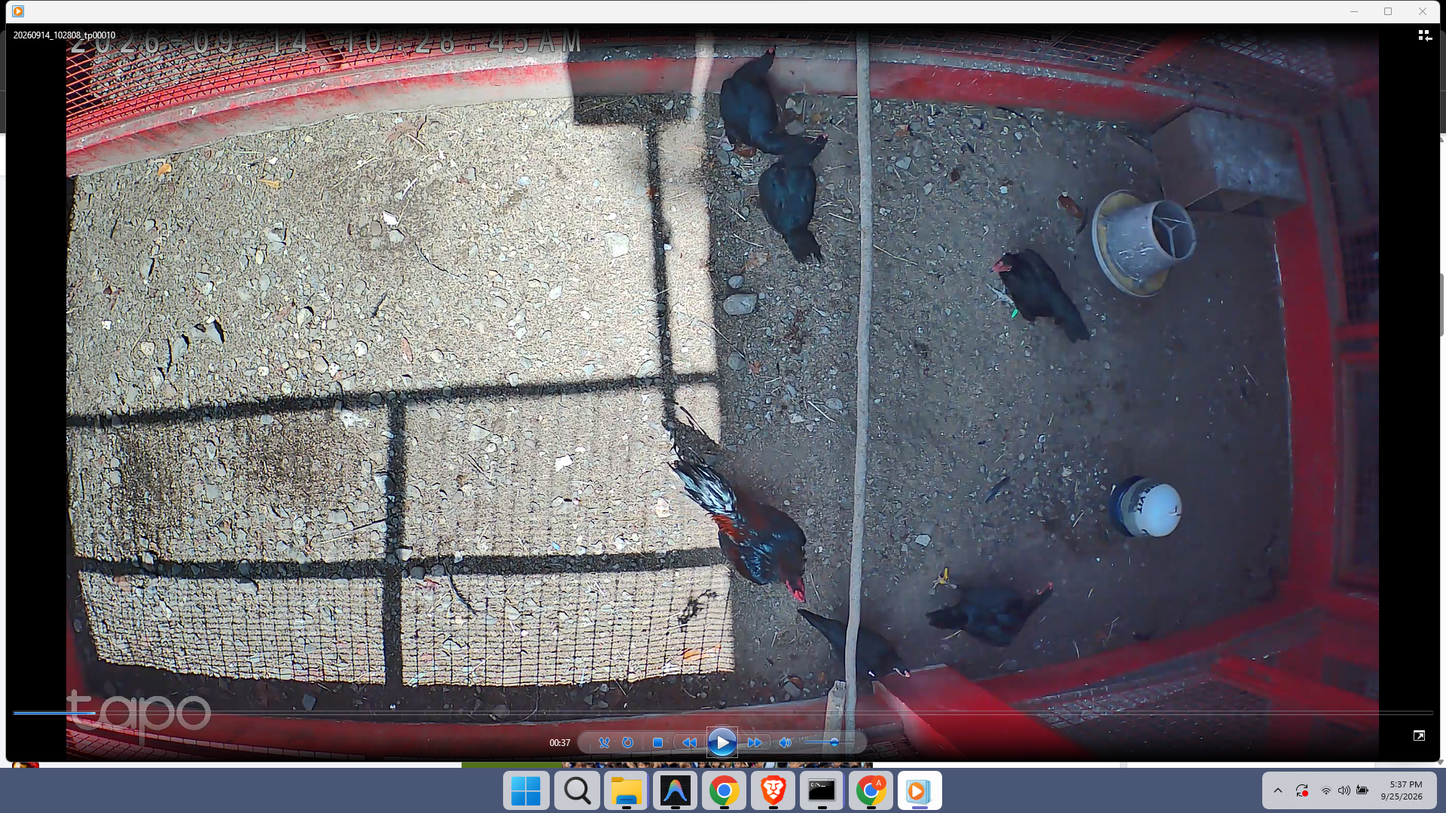Chicken: (986, 247, 1094, 347), (921, 568, 1051, 646), (759, 131, 831, 267), (796, 606, 917, 684), (710, 37, 780, 160)
Drinker: (1108, 473, 1186, 541)
Feeder: (1089, 186, 1199, 298)
Leg_Band_Green: (1009, 307, 1021, 318)
Leg_Band_Violet: (717, 132, 728, 145)
Leg_Band_Yellow: (937, 565, 948, 587)
Rooster: (671, 457, 817, 606)
